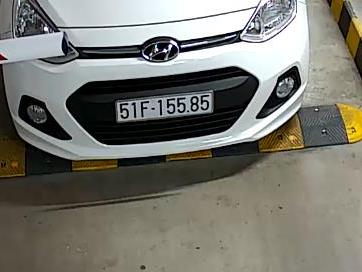car: (115, 91, 214, 122)
